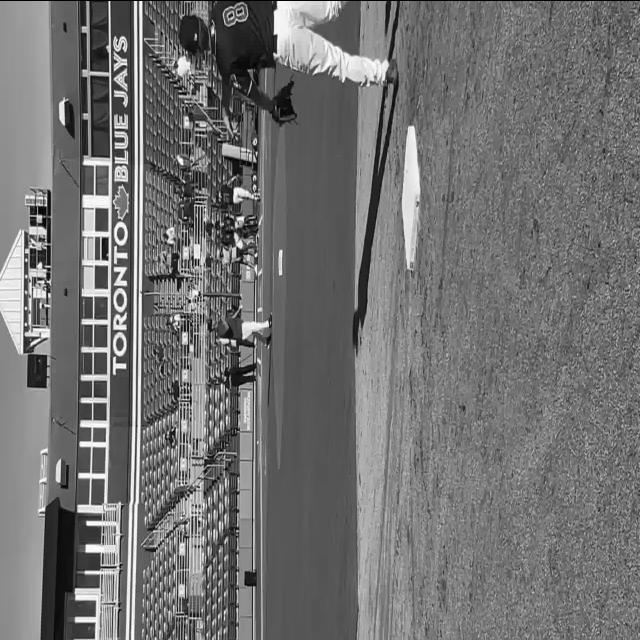base: (401, 120, 419, 272)
baseball_glove: (270, 78, 297, 128)
shoe: (385, 59, 398, 86), (266, 334, 272, 348), (268, 312, 272, 328)
